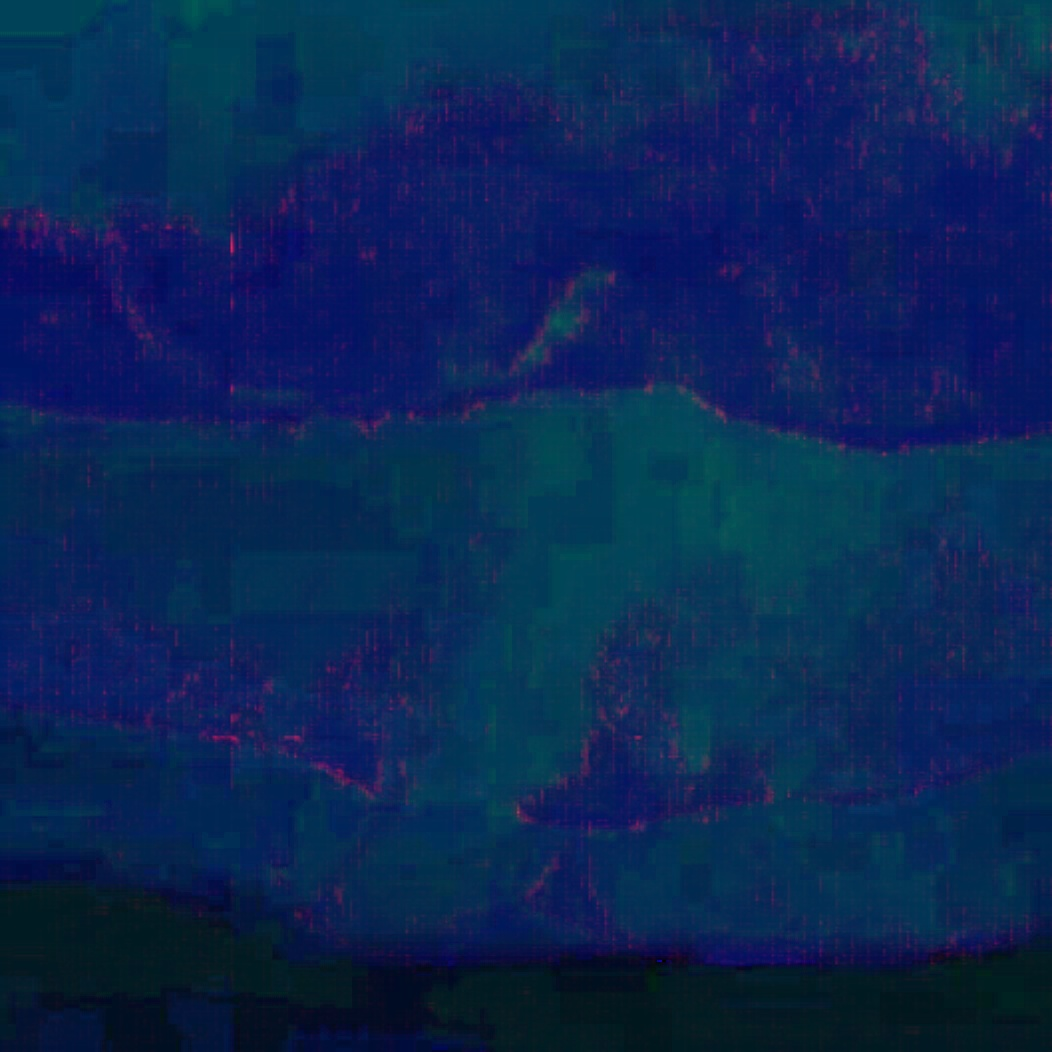rip_current: (373, 263, 698, 945)
